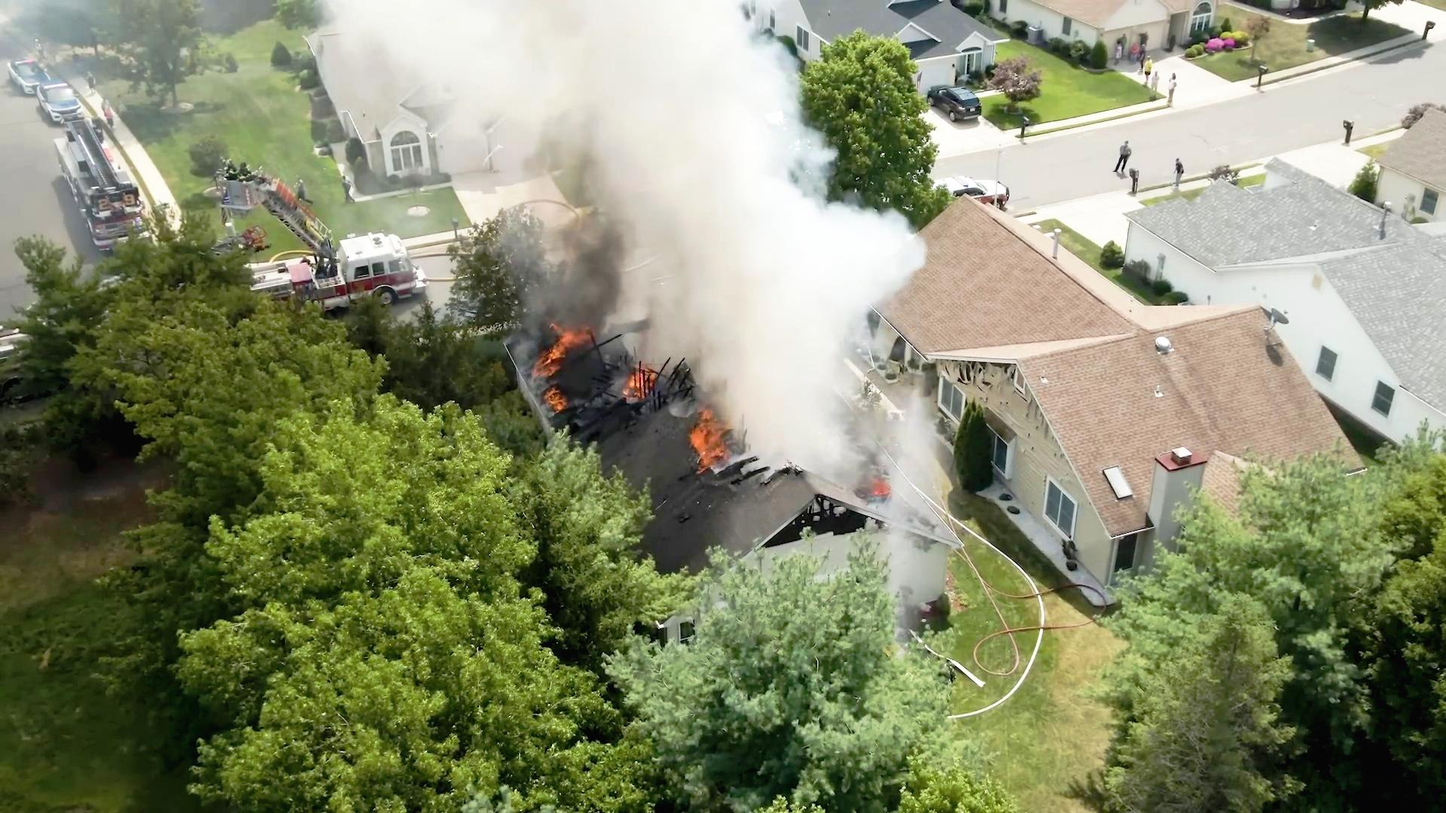smoke: (510, 0, 752, 172), (667, 196, 876, 347)
